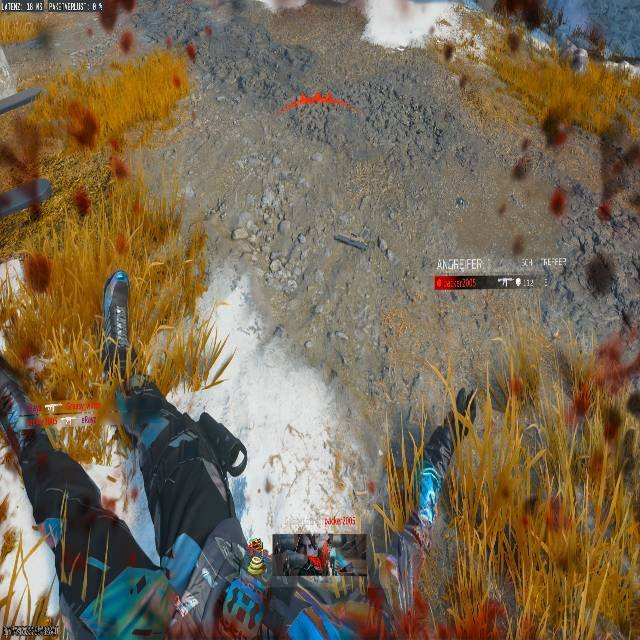player: (100, 270, 132, 342), (184, 39, 197, 67)
